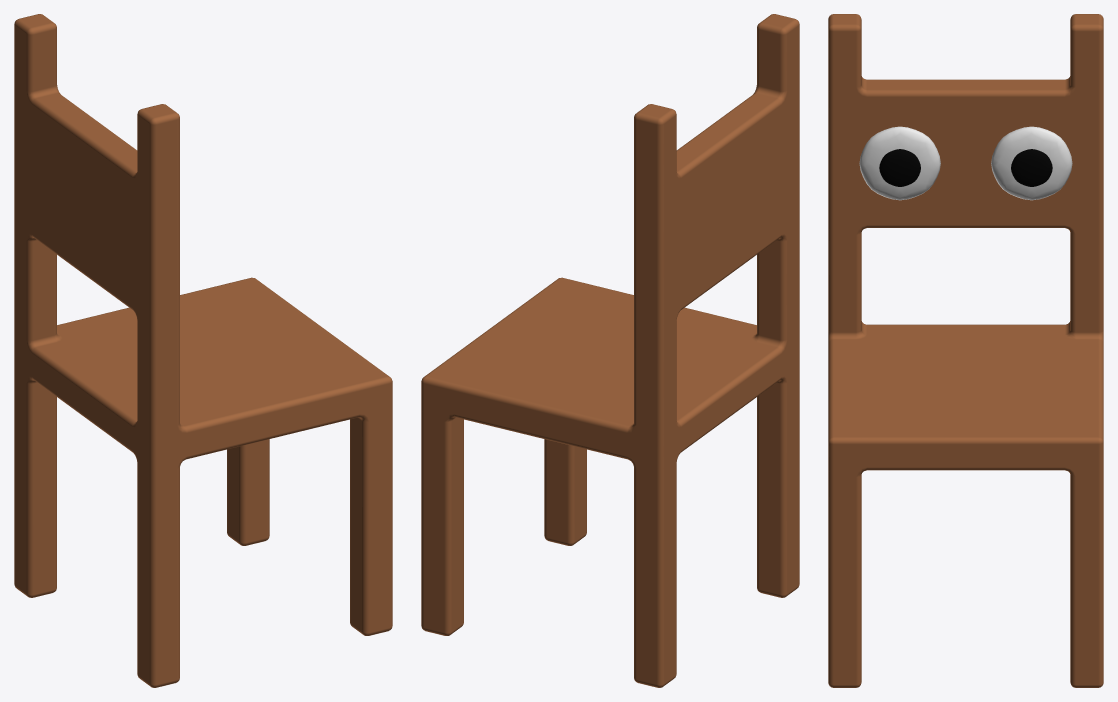
File: Chair.fbx
3 views of the same model, side by side, from view 1: azimuth 30°, elevation 25°; view 2: azimuth 150°, elevation 25°; view 3: azimuth 270°, elevation 25° (orthographic).
Visible parts, largest first — view 1: Chair; view 2: Chair; view 3: Chair, Circle, eyes.
Boxes of the visible parts, box(x1,y1,x2,y2) form: Chair: box(14, 14, 392, 687); Chair: box(421, 14, 799, 687); Chair: box(828, 14, 1103, 687); Circle: box(859, 126, 1072, 200); eyes: box(879, 149, 1052, 186).
Size of the model in its own units: 200 by 449 by 200.
